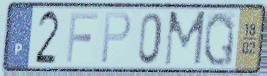0: (137, 11, 165, 66)
2: (34, 9, 62, 66)
F: (64, 11, 99, 65)
M: (162, 9, 208, 69)
P: (99, 10, 133, 66)
Q: (202, 9, 236, 69)
